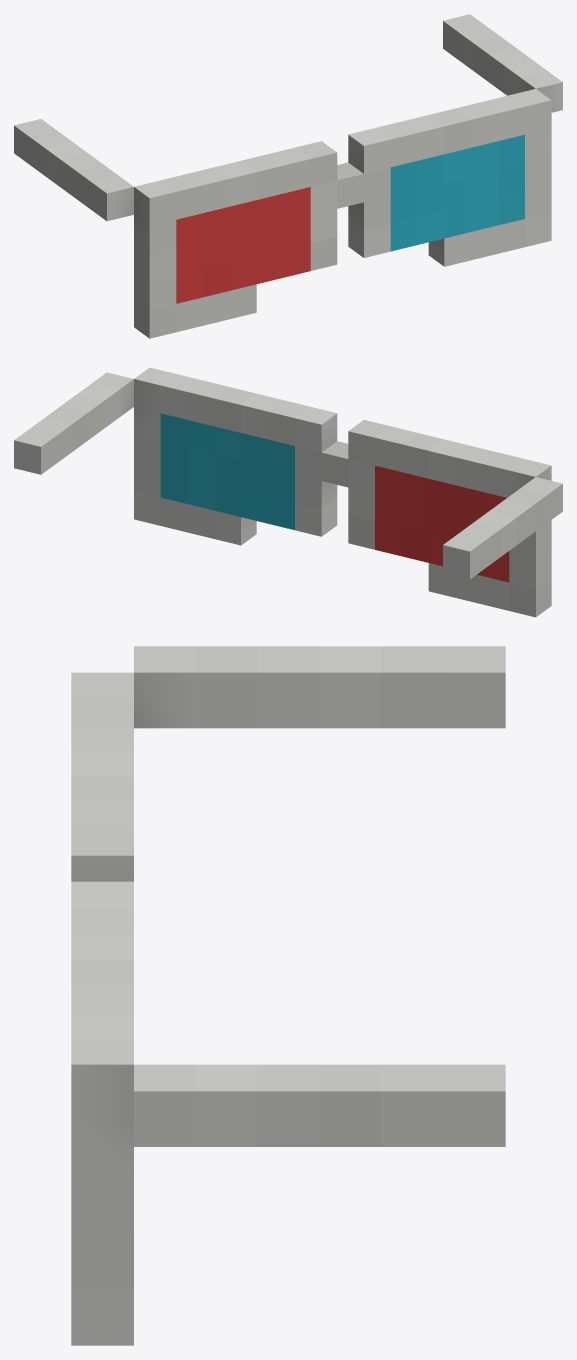
File: face_glasses3d.glb
The picture shows the model from 3 angles, top to bottom: view 1: azimuth 30°, elevation 25°; view 2: azimuth 150°, elevation 25°; view 3: azimuth 270°, elevation 25°; orthographic projection. The views are drawn at different scales.
Visible parts, largest first — view 1: Face; view 2: Face; view 3: Face.
Part boxes in pixels (box(x1,y1,x2,y2)): Face: box(14, 14, 562, 338); Face: box(14, 367, 562, 617); Face: box(71, 646, 505, 1345).
Bounding box in the file's own units: 1.87 × 0.5508 × 0.7715.
